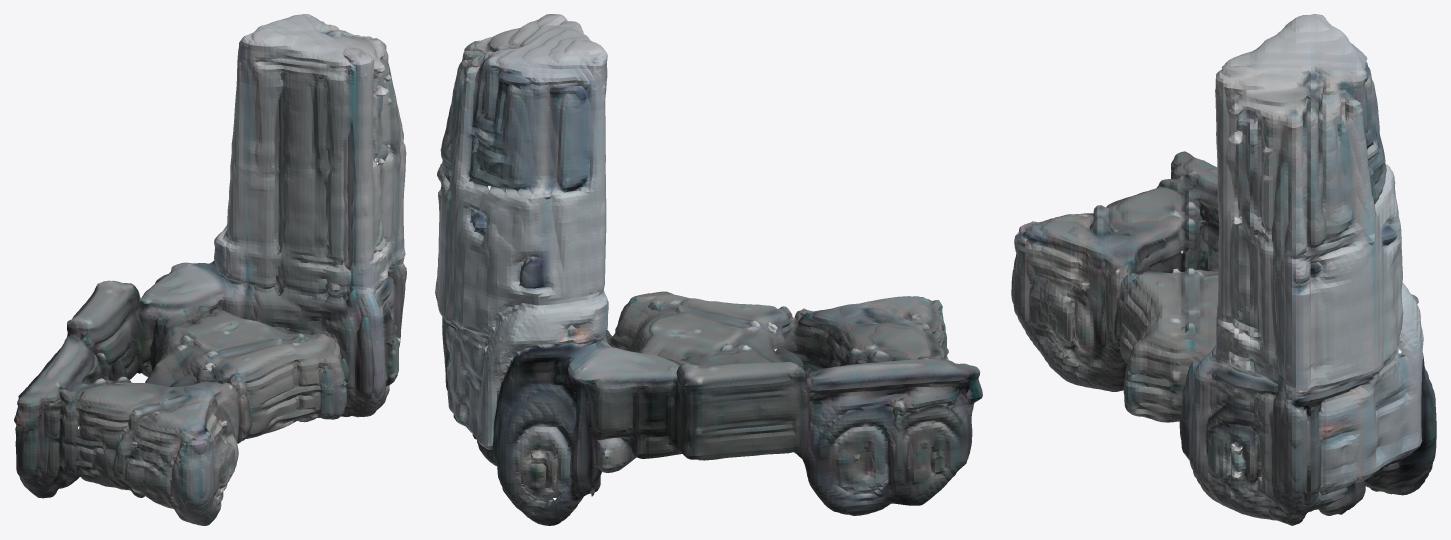
The model's file is truck-front-quarter.glb.
3 renders of one model, left to right at view 1: azimuth 30°, elevation 25°; view 2: azimuth 150°, elevation 25°; view 3: azimuth 270°, elevation 25°, orthographic. The views are drawn at different scales.
Visible parts, largest first — view 1: world; view 2: world; view 3: world.
Boxes of the visible parts, box(x1,y1,x2,y2) form: world: box(14, 14, 406, 525); world: box(435, 14, 982, 525); world: box(1011, 14, 1436, 525).
Bounding box in the file's own units: 1.08 × 0.9359 × 0.7608.
